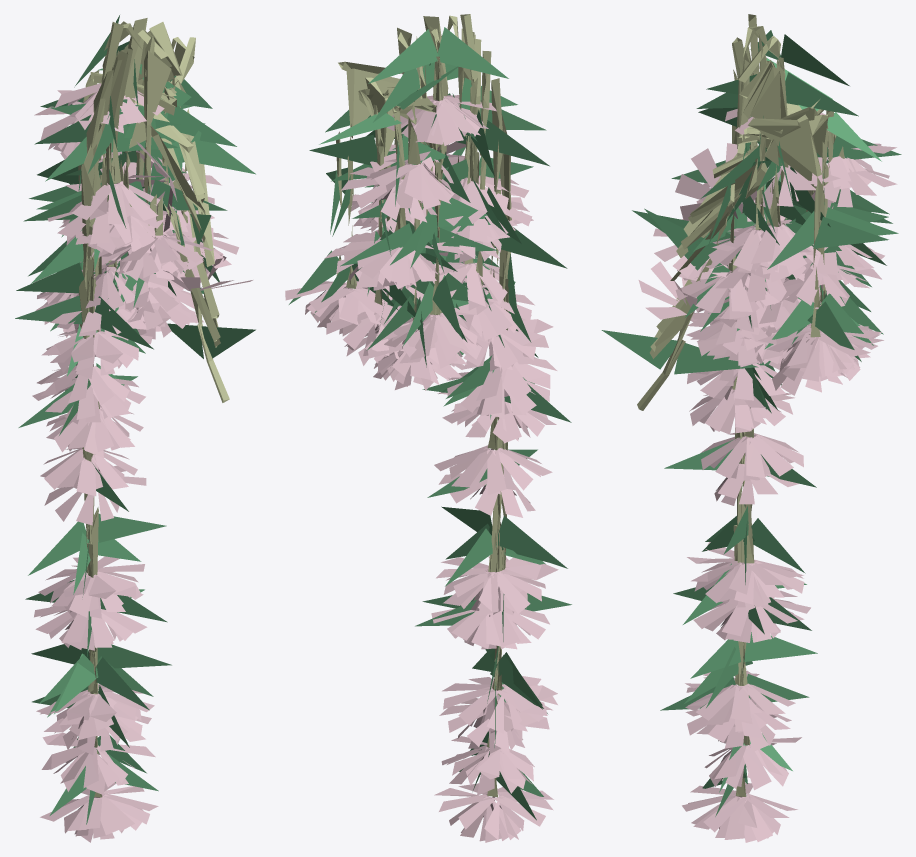
Rendered from SingleVine.fbx.
3 views of the same model, side by side, from view 1: azimuth 30°, elevation 25°; view 2: azimuth 150°, elevation 25°; view 3: azimuth 270°, elevation 25° (orthographic). The views are drawn at different scales.
Parts seen in each view (by area): view 1: greenBudVine10Flower1, greenBudVine10Leaf1, greenBudVine10Main1; view 2: greenBudVine10Flower1, greenBudVine10Leaf1, greenBudVine10Main1; view 3: greenBudVine10Flower1, greenBudVine10Leaf1, greenBudVine10Main1.
Boxes of the visible parts, x1,y1,x2,y2 form: greenBudVine10Flower1: [32, 83, 252, 842]; greenBudVine10Leaf1: [15, 15, 255, 824]; greenBudVine10Main1: [76, 18, 229, 797]; greenBudVine10Flower1: [285, 95, 558, 842]; greenBudVine10Leaf1: [289, 27, 571, 820]; greenBudVine10Main1: [336, 14, 511, 797]; greenBudVine10Flower1: [638, 109, 897, 842]; greenBudVine10Leaf1: [601, 30, 901, 816]; greenBudVine10Main1: [637, 14, 844, 796].
Size of the model in its own units: 1.92 by 6.38 by 2.1.
